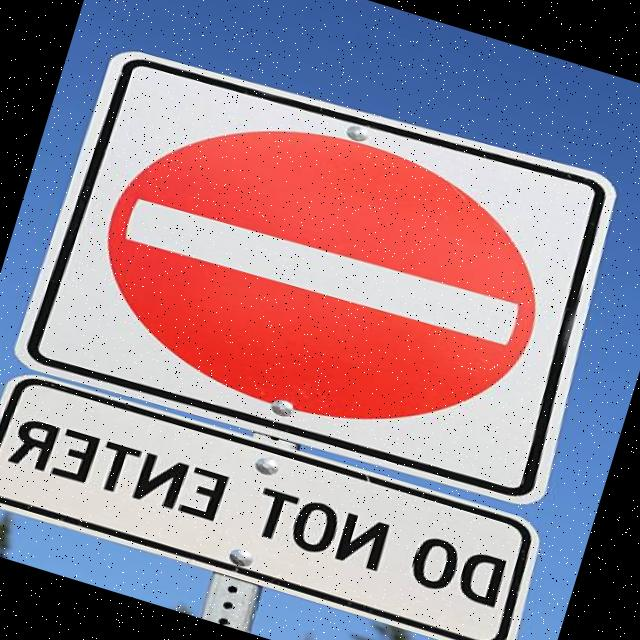do_not_enter: (61, 70, 570, 477)
